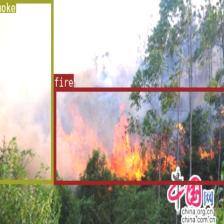fire: (53, 87, 224, 183)
smoke: (0, 0, 53, 183)
